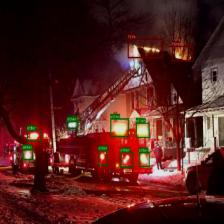fire: (128, 38, 162, 57), (172, 45, 193, 61)
